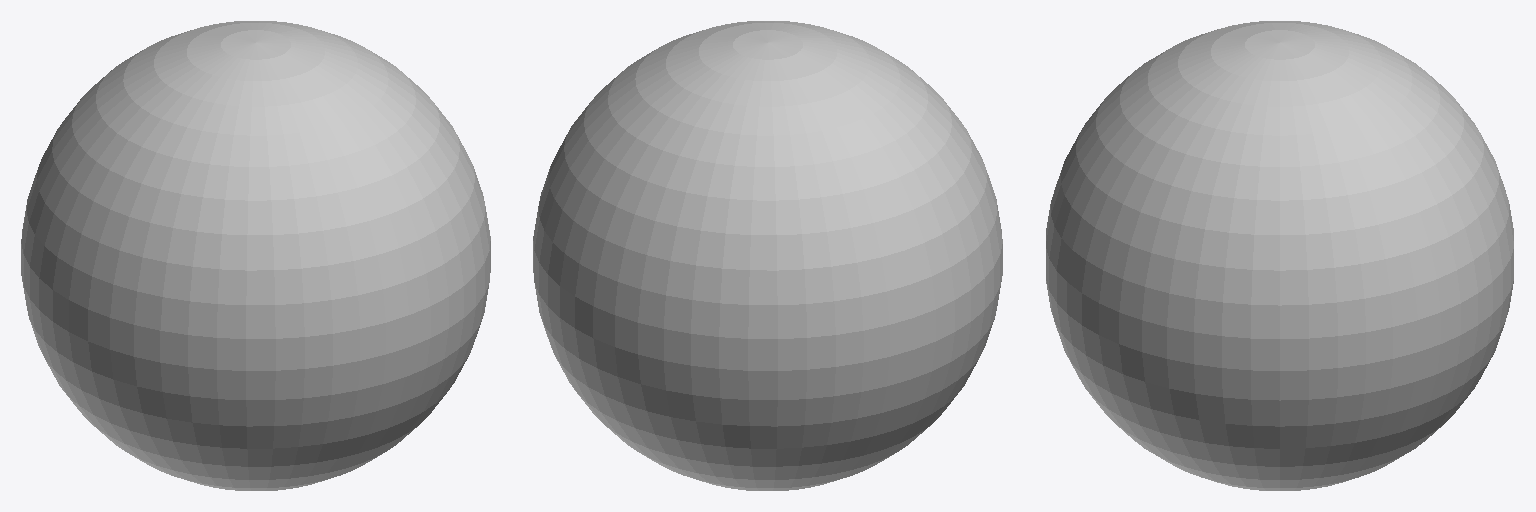
Rendered from skybox2.obj.
The picture shows the model from 3 angles: view 1: azimuth 30°, elevation 25°; view 2: azimuth 150°, elevation 25°; view 3: azimuth 270°, elevation 25°; orthographic projection.
Visible parts, largest first — view 1: PanoSphere_lambert1_0; view 2: PanoSphere_lambert1_0; view 3: PanoSphere_lambert1_0.
Boxes of the visible parts, x1=… form: PanoSphere_lambert1_0: x1=21, y1=21, x2=490, y2=490; PanoSphere_lambert1_0: x1=533, y1=21, x2=1002, y2=490; PanoSphere_lambert1_0: x1=1046, y1=21, x2=1513, y2=490.
Size of the model in its own units: 9.97 by 10 by 9.95.